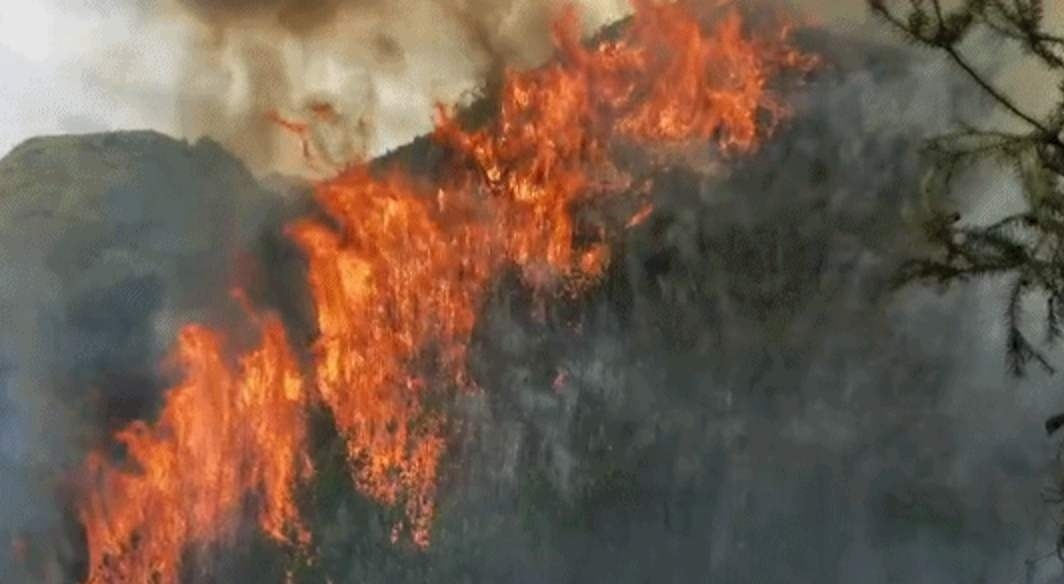fire: (89, 0, 818, 559)
